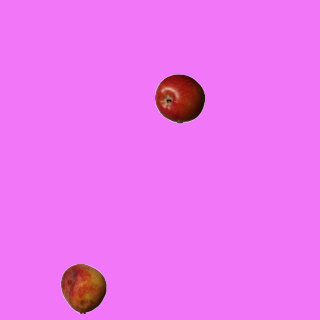Apple Braeburn: (154, 73, 204, 123)
Peach: (58, 263, 108, 313)
